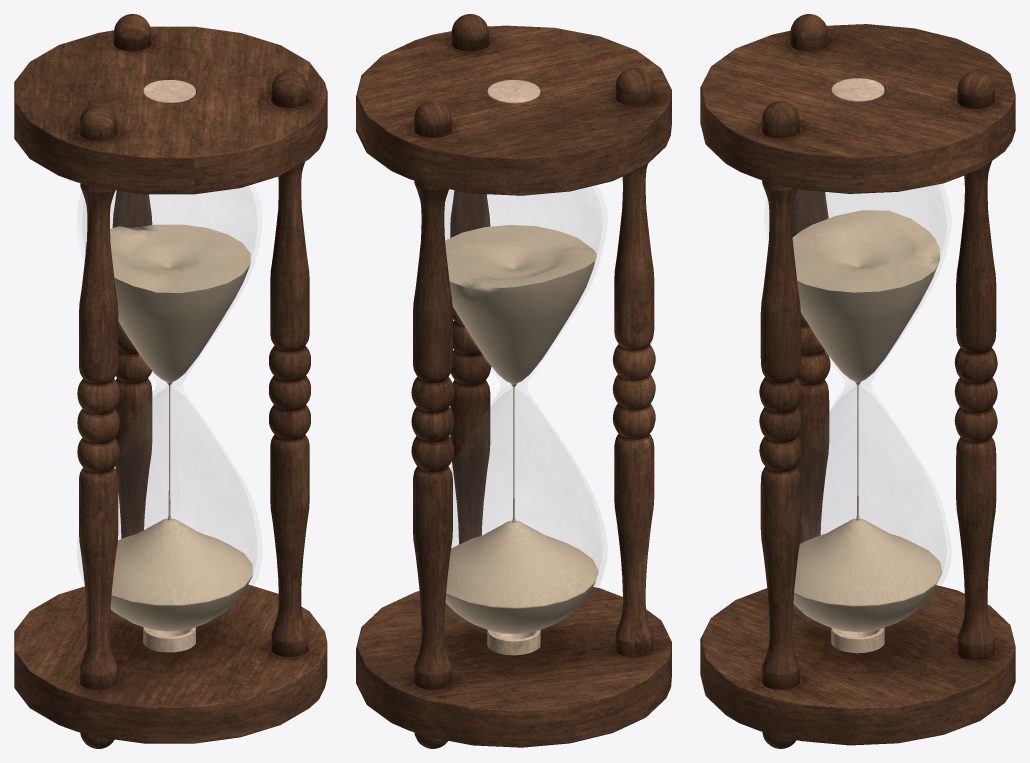
File: hour_glass.glb
The picture shows the model from 3 angles, left to right: view 1: azimuth 30°, elevation 25°; view 2: azimuth 150°, elevation 25°; view 3: azimuth 270°, elevation 25°; orthographic projection.
Visible parts, largest first — view 1: hour_glass:wood_top_GEO, wood_base_GEO, glass_GEO, leg_2_GEO, leg_3_GEO, top_sand_GEO, bottom_sand_GEO, leg_1_GEO, bottom_cork_GEO, top_cork_GEO; view 2: hour_glass:wood_top_GEO, wood_base_GEO, glass_GEO, leg_1_GEO, leg_2_GEO, top_sand_GEO, bottom_sand_GEO, leg_3_GEO, bottom_cork_GEO, top_cork_GEO; view 3: hour_glass:wood_top_GEO, wood_base_GEO, glass_GEO, leg_3_GEO, leg_1_GEO, top_sand_GEO, bottom_sand_GEO, leg_2_GEO, bottom_cork_GEO, top_cork_GEO.
Boxes of the visible parts, left/top/right/bottom form: hour_glass:wood_top_GEO: left=14, top=26, right=327, bottom=194; wood_base_GEO: left=14, top=584, right=327, bottom=743; glass_GEO: left=82, top=186, right=256, bottom=634; leg_2_GEO: left=77, top=103, right=119, bottom=748; leg_3_GEO: left=269, top=70, right=310, bottom=657; top_sand_GEO: left=85, top=224, right=250, bottom=385; bottom_sand_GEO: left=110, top=518, right=252, bottom=631; leg_1_GEO: left=112, top=14, right=152, bottom=538; bottom_cork_GEO: left=143, top=627, right=195, bottom=652; top_cork_GEO: left=143, top=80, right=195, bottom=102; hour_glass:wood_top_GEO: left=356, top=25, right=671, bottom=195; wood_base_GEO: left=356, top=587, right=671, bottom=747; glass_GEO: left=445, top=186, right=602, bottom=637; leg_1_GEO: left=411, top=100, right=454, bottom=748; leg_2_GEO: left=612, top=68, right=655, bottom=657; top_sand_GEO: left=445, top=225, right=596, bottom=387; bottom_sand_GEO: left=445, top=520, right=598, bottom=633; leg_3_GEO: left=450, top=14, right=491, bottom=544; bottom_cork_GEO: left=487, top=630, right=540, bottom=655; top_cork_GEO: left=487, top=79, right=540, bottom=103; hour_glass:wood_top_GEO: left=700, top=24, right=1015, bottom=193; wood_base_GEO: left=700, top=585, right=1015, bottom=745; glass_GEO: left=793, top=185, right=946, bottom=635; leg_3_GEO: left=759, top=101, right=802, bottom=748; leg_1_GEO: left=954, top=71, right=997, bottom=660; top_sand_GEO: left=792, top=210, right=940, bottom=385; bottom_sand_GEO: left=793, top=518, right=942, bottom=631; leg_2_GEO: left=790, top=14, right=830, bottom=543; bottom_cork_GEO: left=831, top=628, right=884, bottom=653; top_cork_GEO: left=831, top=78, right=884, bottom=101.
Size of the model in its own units: 0.1212 by 0.2733 by 0.1212.
Materials: 4 (4 with a texture image).
